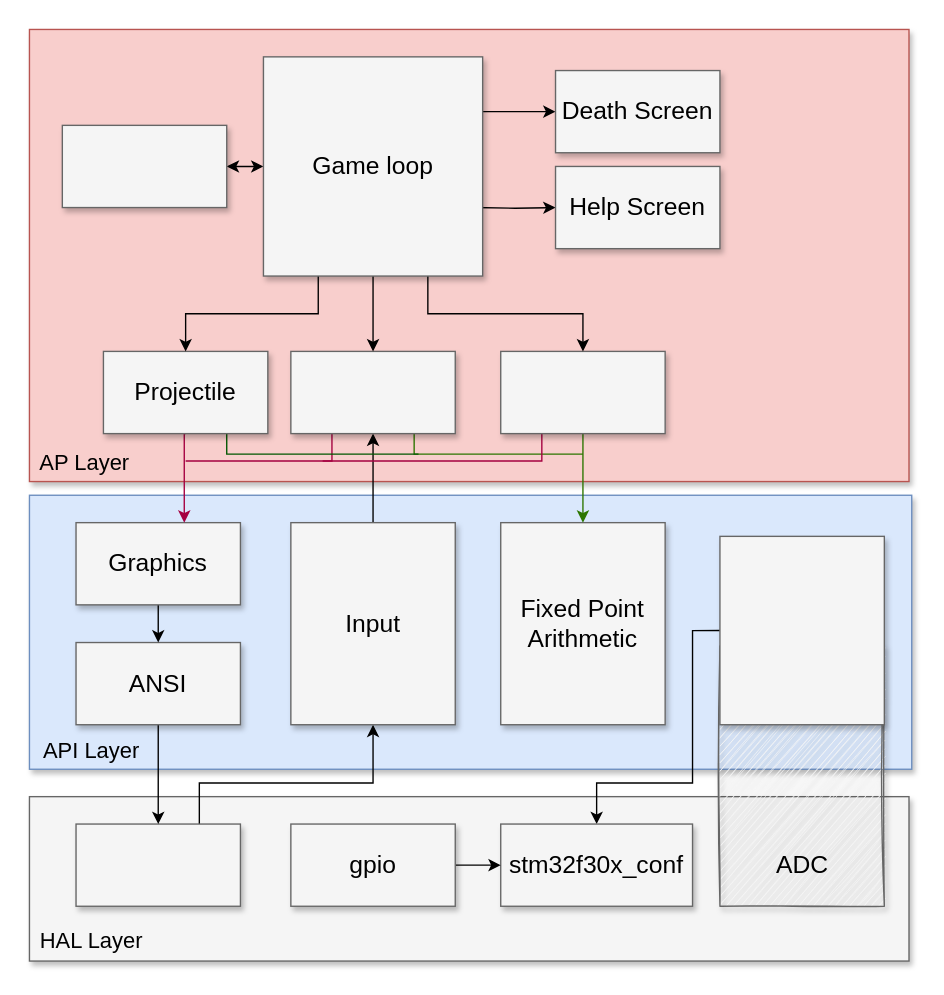
Image size: 944x995. Some labels were removed from this diagram. Each missing label, with the centre of its shape:
"30010_io" belongs at pixel 159 866.
"Enemy" belongs at pixel 583 394.
"Game state" belongs at pixel 145 168.
"Player" belongs at pixel 373 394.
"random" belongs at pixel 803 632.
